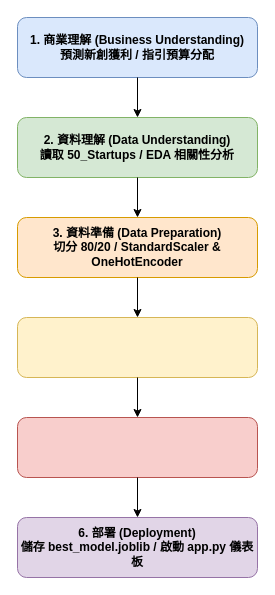
The diagram is 275 pixels wide and 595 high, and some of its shapes have lost their labels. Here are the shapes that lost their labels. From the top down, the centre of each, then its label:
(137,347): 4. 建立模型 (Modeling) 封裝 5 種迴歸模型至 Pipeline
(137,447): 5. 模型評估 (Evaluation) 計算指標 / 進行 SFS 前向特徵選擇
